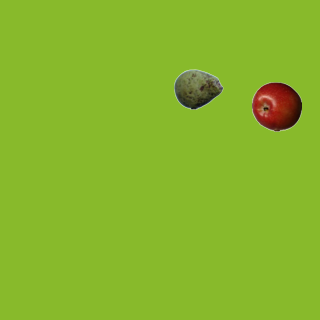Apple Braeburn: (251, 81, 301, 131)
Pear Stone: (173, 64, 223, 114)
